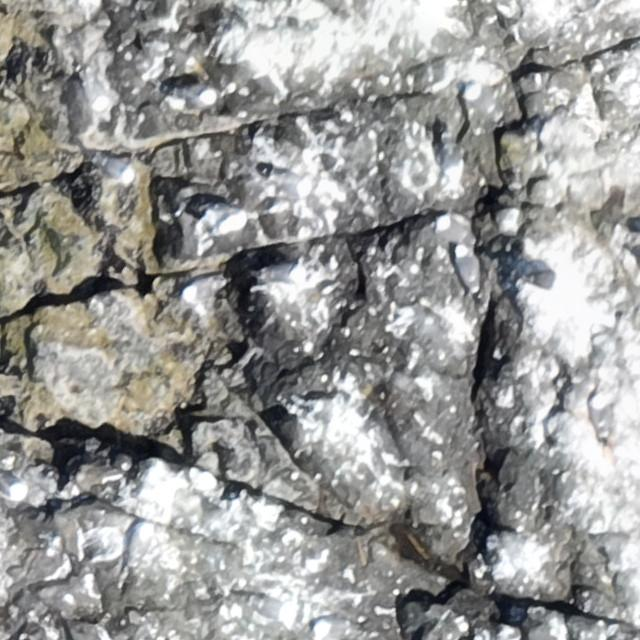umineko: (586, 392, 618, 448), (178, 81, 228, 108), (182, 276, 226, 305), (204, 195, 236, 231), (96, 155, 132, 185), (270, 258, 308, 286), (456, 248, 479, 291), (1, 468, 30, 502), (529, 271, 565, 295)
